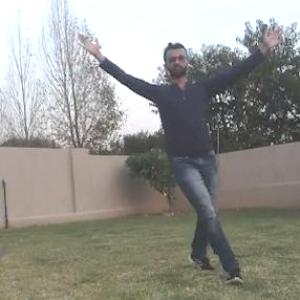takeoff: (78, 29, 284, 278)
